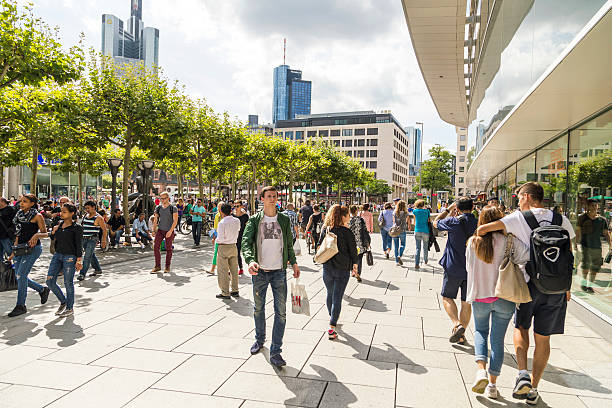pedestrian: (505, 181, 577, 408), (455, 207, 522, 405), (240, 183, 303, 374), (432, 196, 480, 354), (315, 201, 358, 340), (6, 192, 48, 320), (45, 204, 88, 320), (577, 197, 610, 298), (145, 191, 182, 277), (78, 198, 108, 283), (410, 196, 433, 274), (391, 199, 410, 267)
